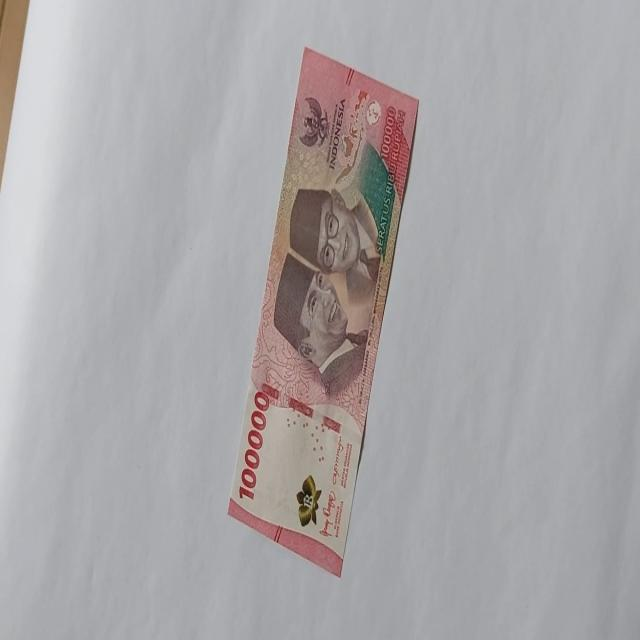seratus ribu rupiah: (226, 45, 419, 577), (273, 184, 382, 396)
